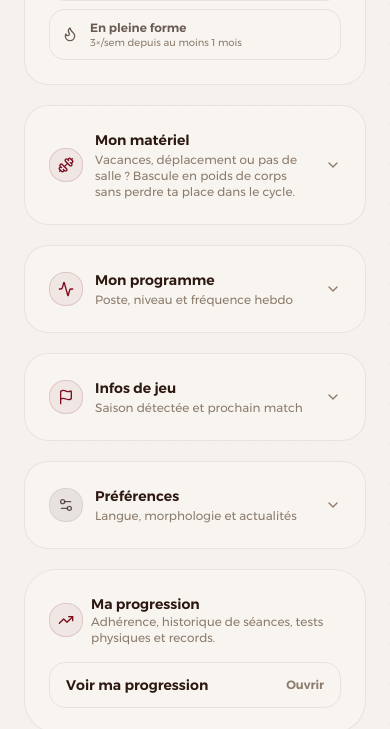
Test: ProfilePage · Ma situation › shows pre-season UI when user has set a return date
(page scrolled)
Step 1. Click the button "Infos de jeu Saison détectée et prochain match" → point(195, 397), box x1=25 y1=354 x2=365 y2=440
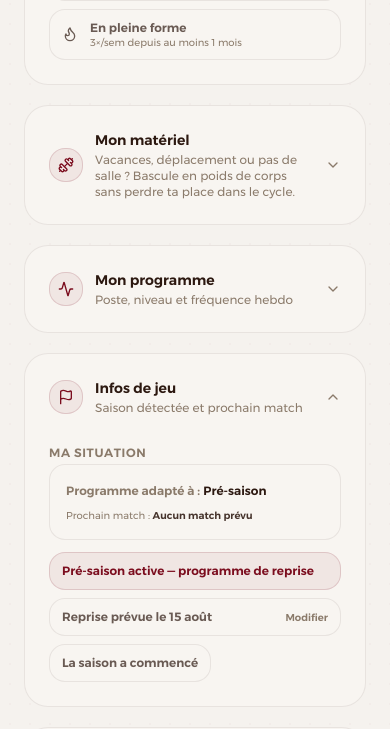
Now the element with test id "situation-confirmed" shows "Pré-saison active", box x1=62 y1=564 x2=314 y2=578
Now the element with test id "situation-return-set" shows "15 août", box x1=169 y1=610 x2=212 y2=624
Now the button with test id "situation-season-started" reads "La saison a commencé", box x1=49 y1=644 x2=211 y2=682
